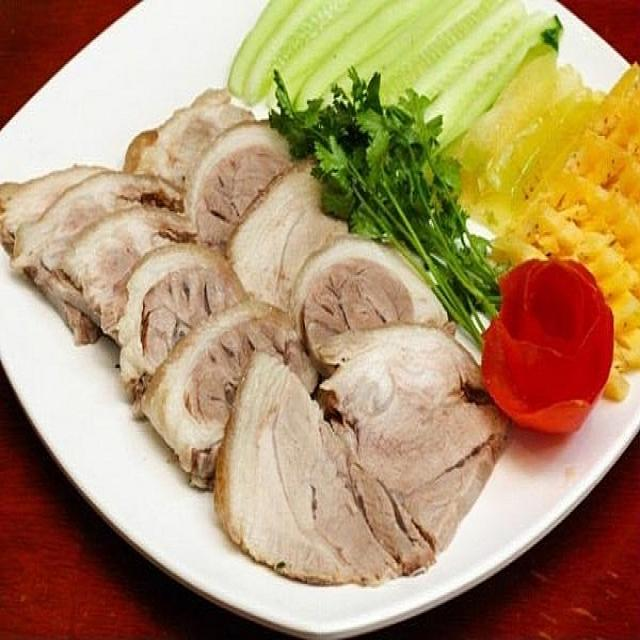dua leo: (227, 0, 555, 142)
rau ngo: (270, 69, 499, 341)
thit luoc: (2, 90, 449, 486), (140, 237, 507, 584)
